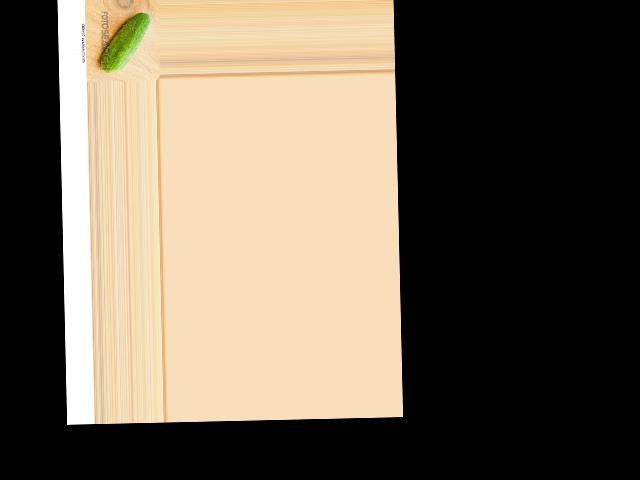cucumber: (98, 12, 151, 74)
